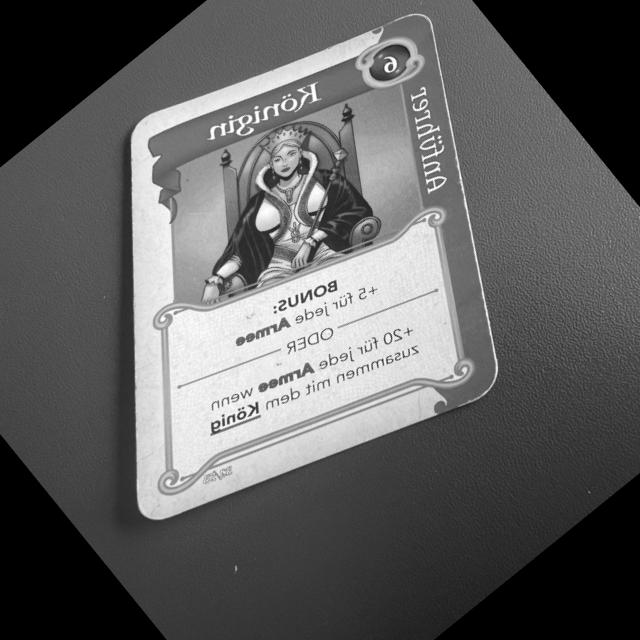Queen: (120, 5, 505, 528)
